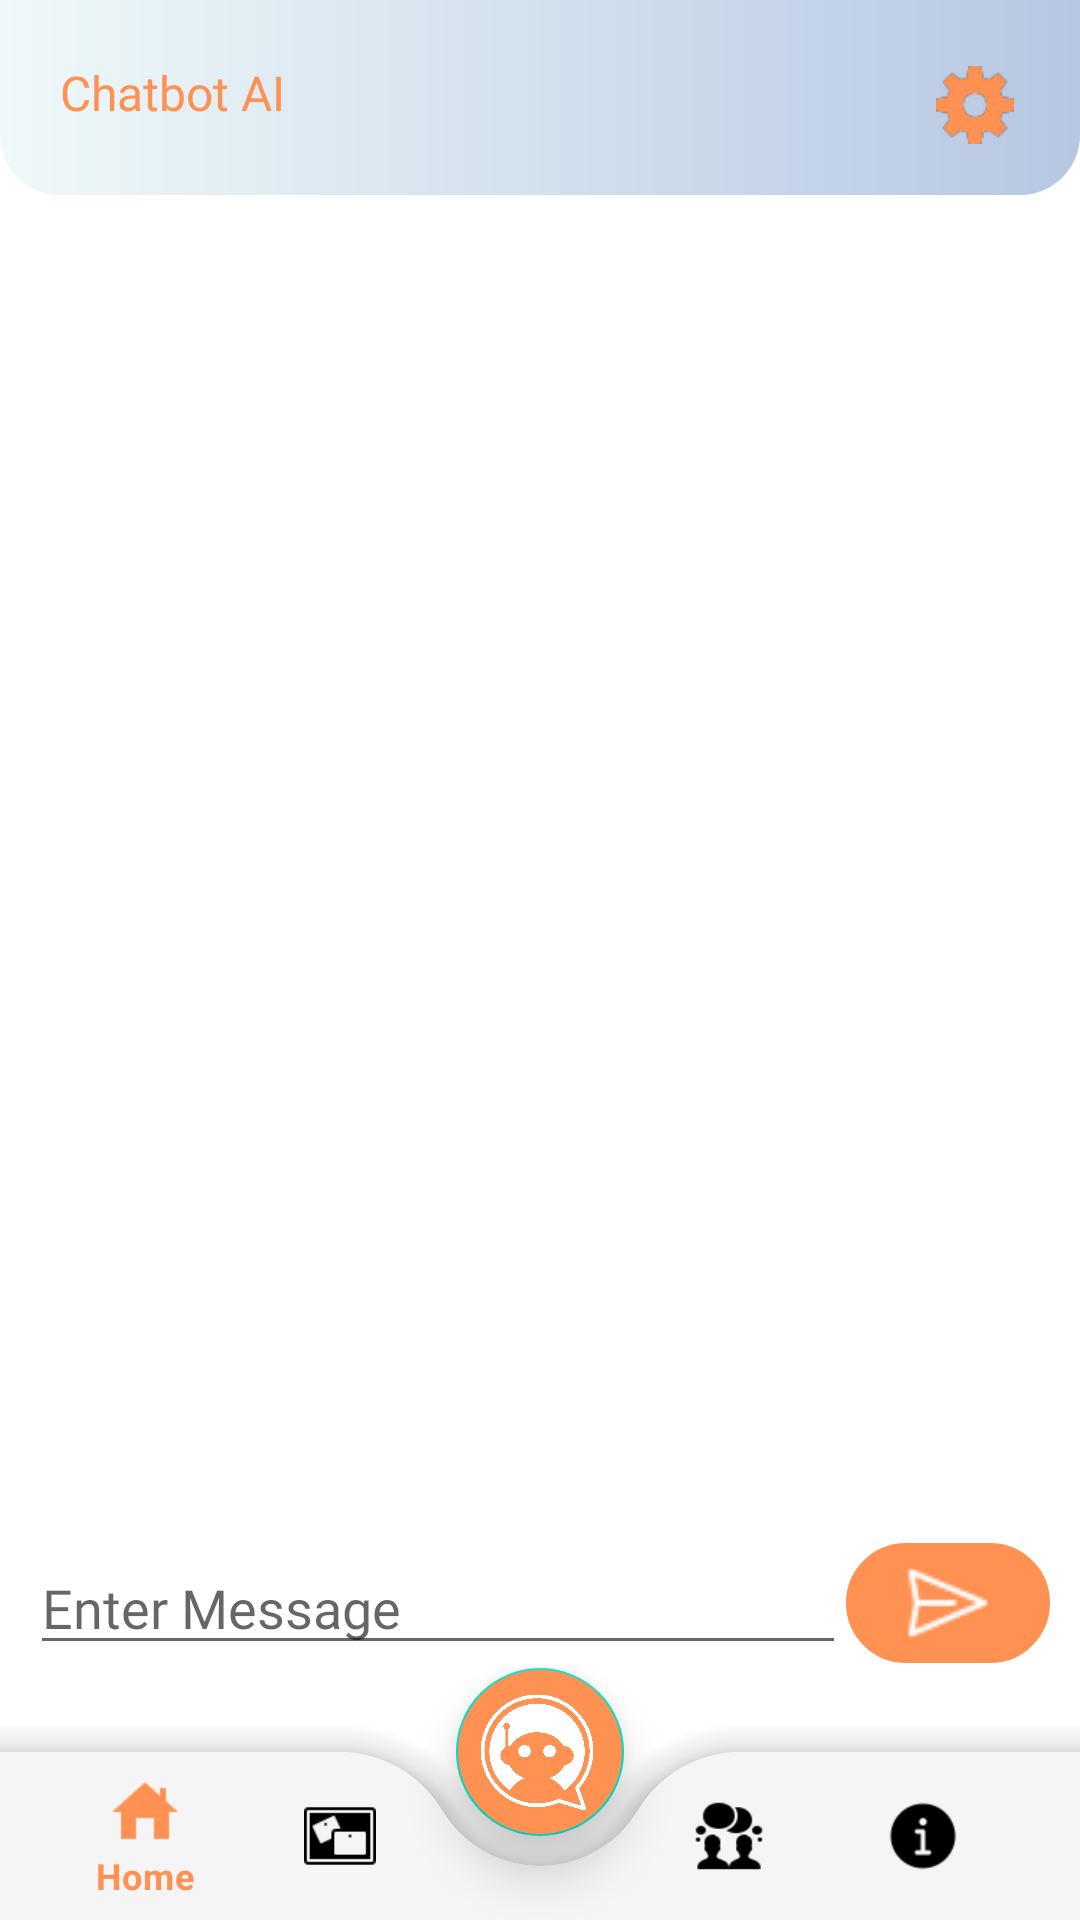

Screen size 1080×1920. Icon name, then its box in pixels as bbox=(x1, y1, x2, y2):
send: bbox=(846, 1543, 1050, 1663)
setting: bbox=(936, 66, 1014, 144)
